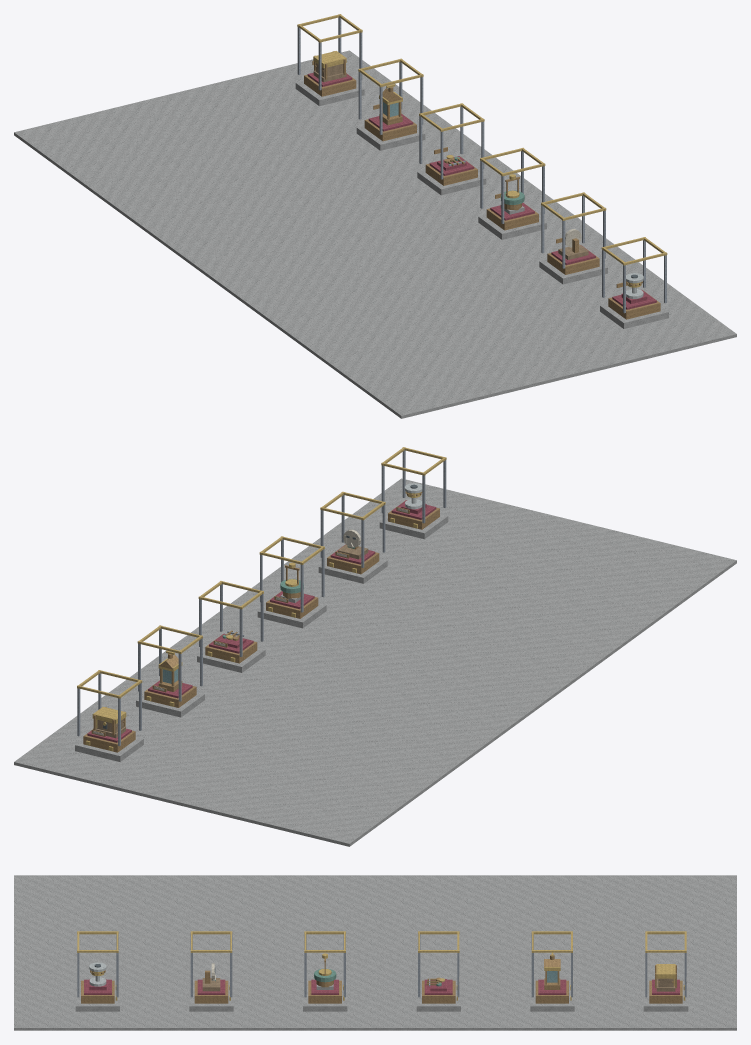
File: east-vault-bank.glb
The picture shows the model from 3 angles, top to bottom: view 1: azimuth 30°, elevation 25°; view 2: azimuth 150°, elevation 25°; view 3: azimuth 270°, elevation 25°; orthographic projection. The views are drawn at different scales.
Parts seen in each view (by area): view 1: review_relic_vault_east; view 2: review_relic_vault_east; view 3: review_relic_vault_east.
Boxes of the visible parts, bbox=[...] form: review_relic_vault_east: bbox=[14, 14, 736, 418]; review_relic_vault_east: bbox=[14, 447, 736, 846]; review_relic_vault_east: bbox=[14, 875, 736, 1030].
Size of the model in its own units: 14 by 2.71 by 28.
Materials: 12 (12 with a texture image).
